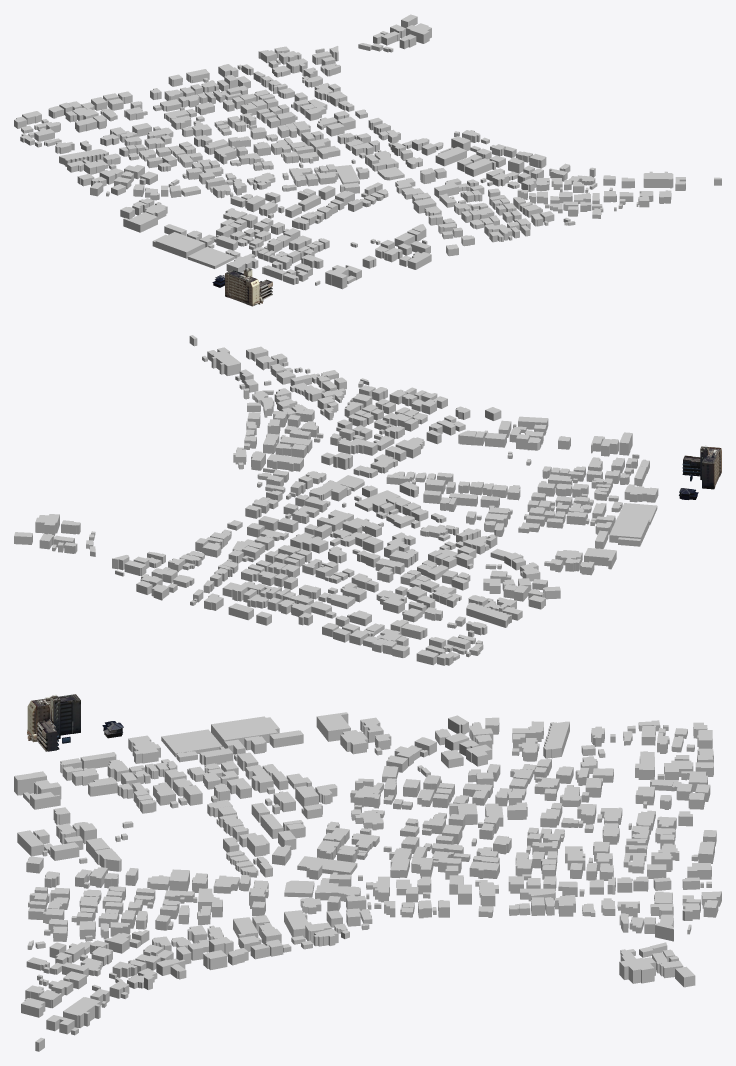
File: 2023-lod3-station-3-3-packed.glb
3 views of the same model, one above another, from view 1: azimuth 30°, elevation 25°; view 2: azimuth 150°, elevation 25°; view 3: azimuth 270°, elevation 25° (orthographic). The views are drawn at different scales.
Size of the model in its own units: 515 by 29.78 by 462.
2 materials, 1 textured.
